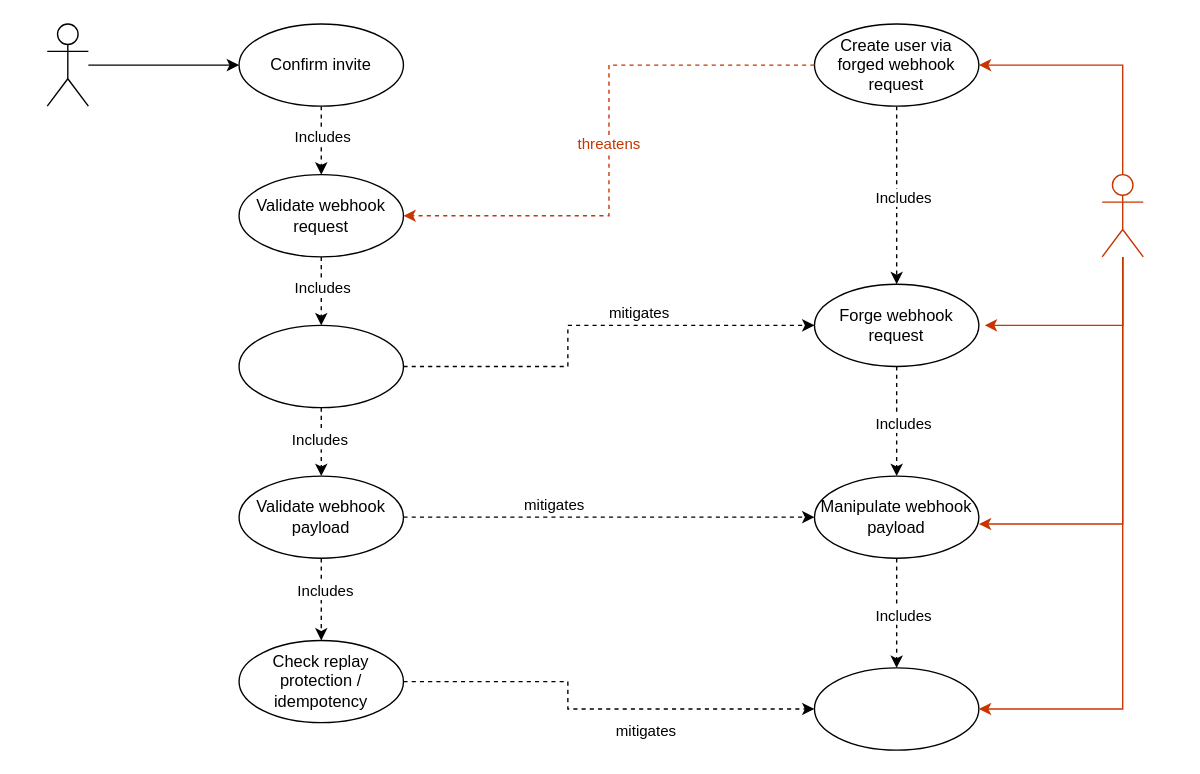
Some shapes in this 1200 by 774 pixel diagram are drawn without their labels. The centre of each missing label's shape, as x and y in pixels:
"Invited User" goes at point (67, 64).
"Malicious User" goes at point (1122, 215).
"Replay webhook request" goes at point (896, 708).
"Validate webhook secret or signature" goes at point (320, 366).
